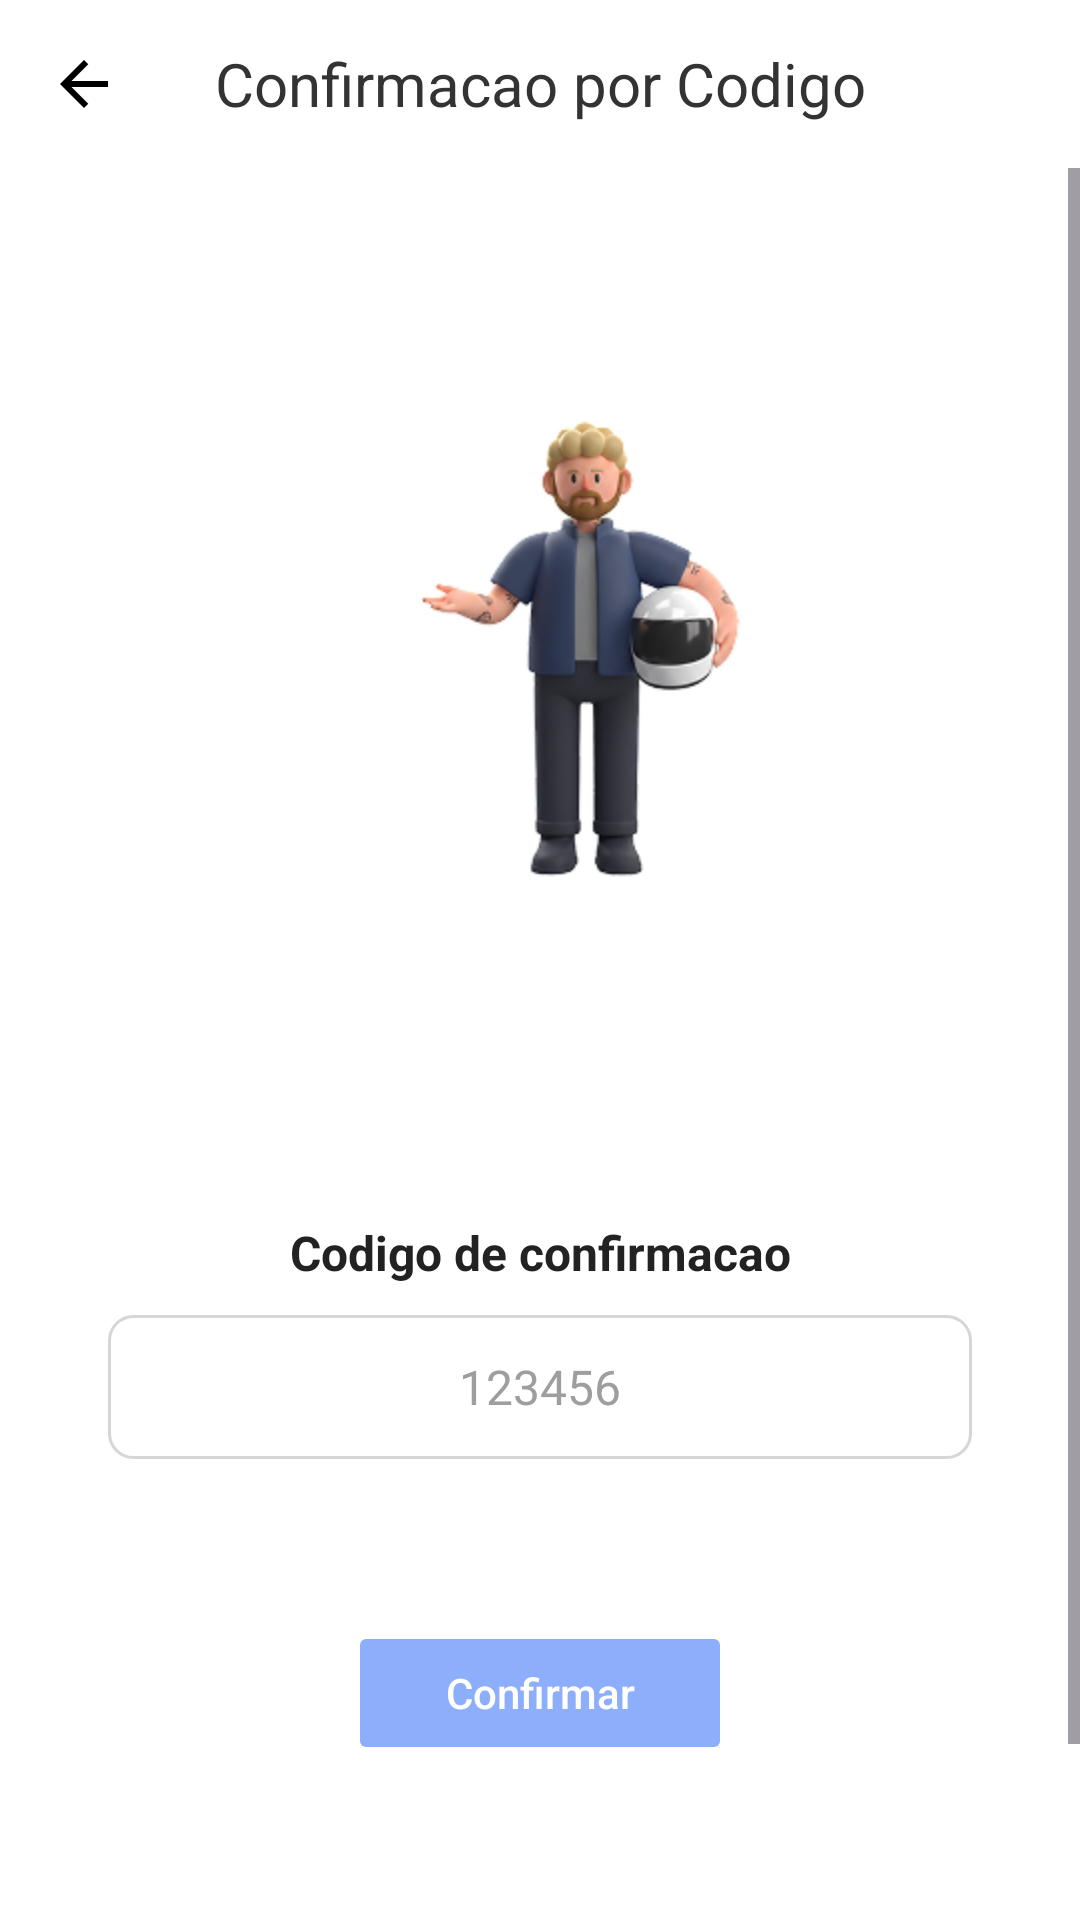

Named icons in this screenshot (1080*1920) and their bounding boxes, (x1, y1, x2, y2):
Voltar: (60, 60, 108, 108)
